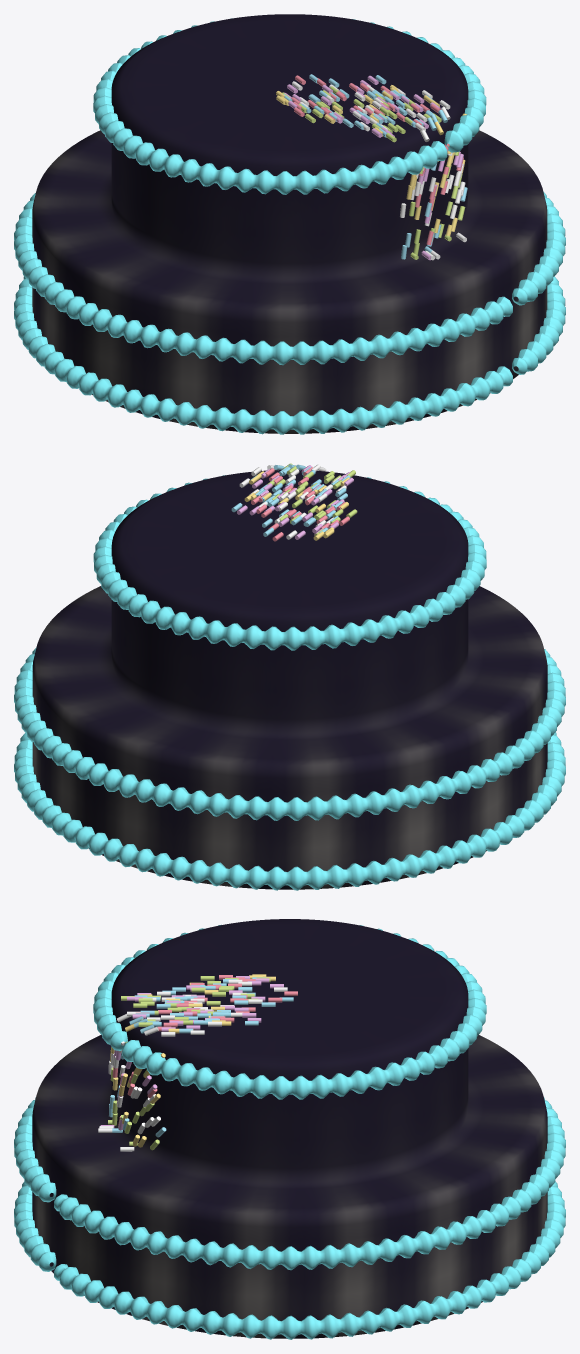
Rendered from cake.glb.
3 renders of one model, top to bottom at view 1: azimuth 30°, elevation 25°; view 2: azimuth 150°, elevation 25°; view 3: azimuth 270°, elevation 25°, orthographic.
Bounding box in the file's own units: 0.2785 × 0.1388 × 0.2784.
